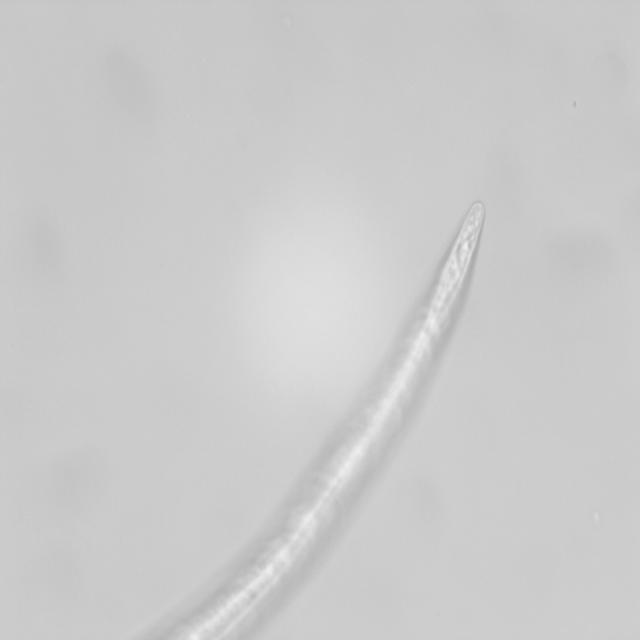Pratylenchus: (418, 178, 510, 341)
